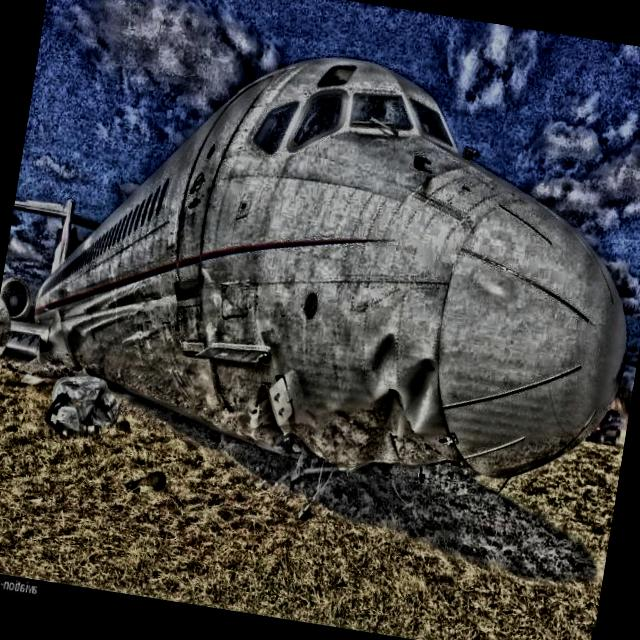dent: (397, 356, 438, 428), (366, 332, 404, 398)
